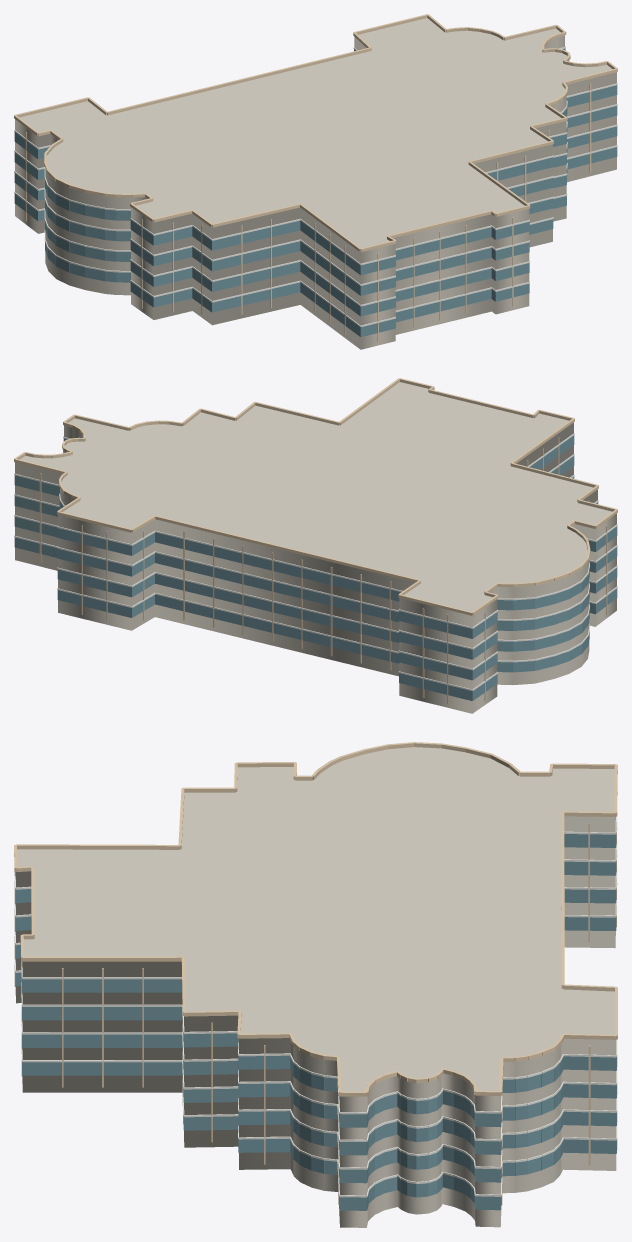
The model's file is dlf-emporio.glb.
3 views of the same model, one above another, from view 1: azimuth 30°, elevation 25°; view 2: azimuth 150°, elevation 25°; view 3: azimuth 270°, elevation 25° (orthographic). The views are drawn at different scales.
Parts seen in each view (by area): view 1: NCR_dlf-emporio; view 2: NCR_dlf-emporio; view 3: NCR_dlf-emporio.
Part boxes in pixels (box(x1,y1,x2,y2)): NCR_dlf-emporio: box(14, 14, 617, 349); NCR_dlf-emporio: box(14, 378, 617, 713); NCR_dlf-emporio: box(14, 742, 617, 1227).
Bounding box in the file's own units: 122 × 22 × 88.89.
